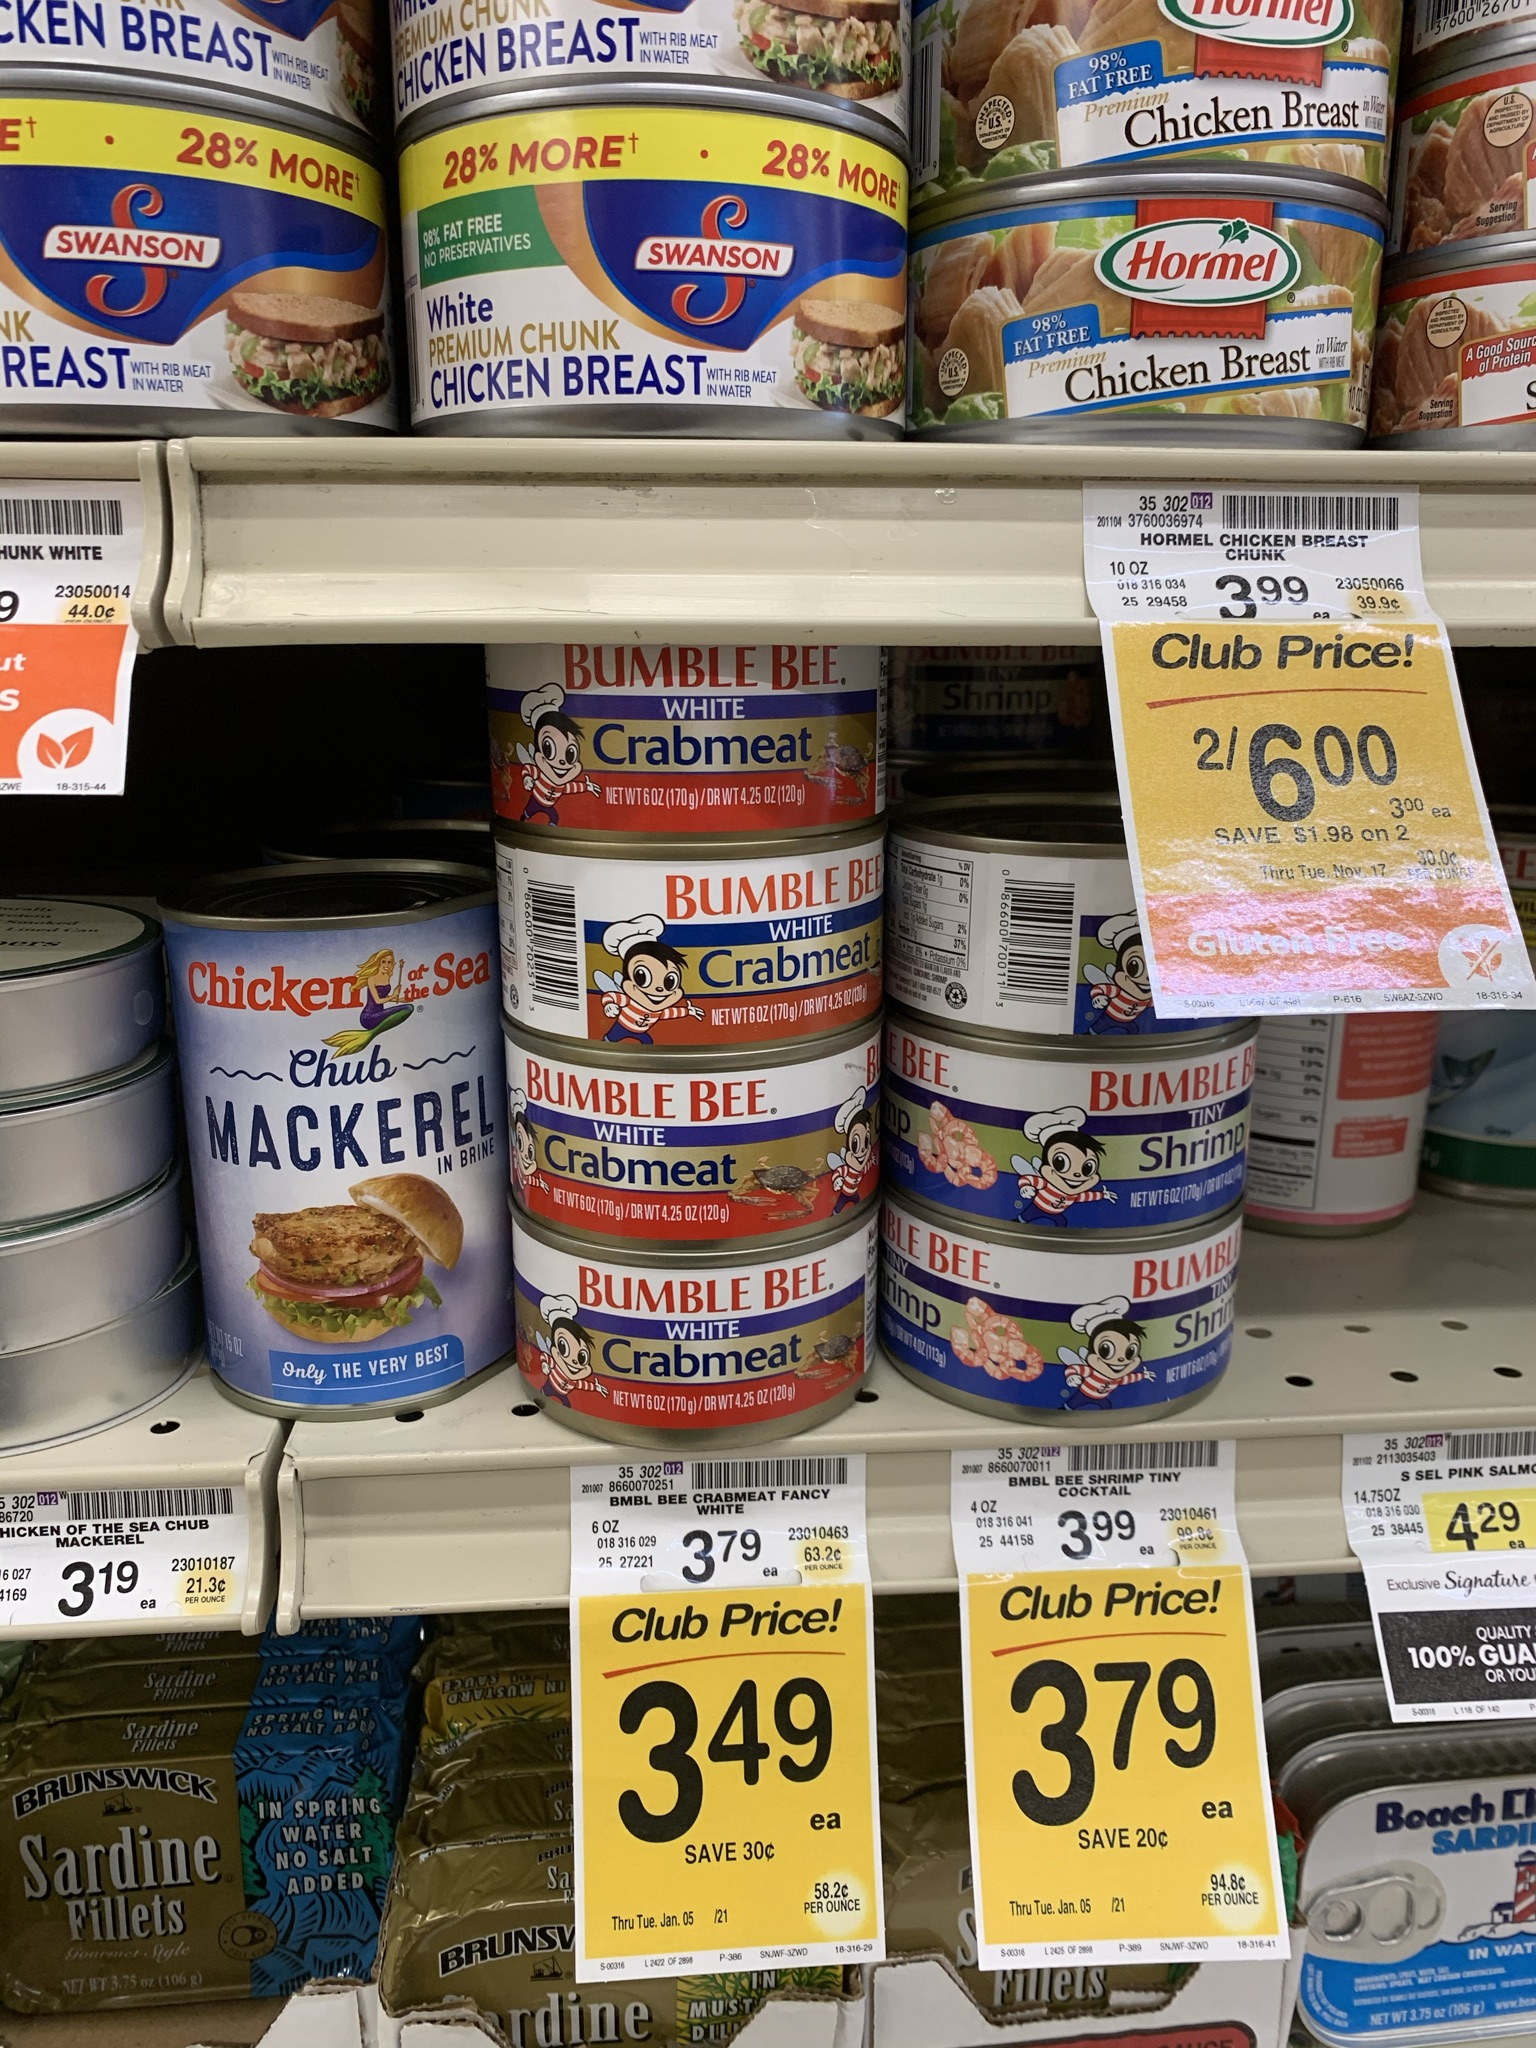can: (408, 135, 891, 423), (207, 926, 503, 1374), (931, 221, 1363, 439), (2, 168, 373, 402), (945, 19, 1379, 173), (494, 653, 873, 827), (523, 861, 883, 1022), (907, 1040, 1241, 1213), (523, 1247, 865, 1414), (515, 1064, 865, 1227), (908, 1238, 1220, 1392)
